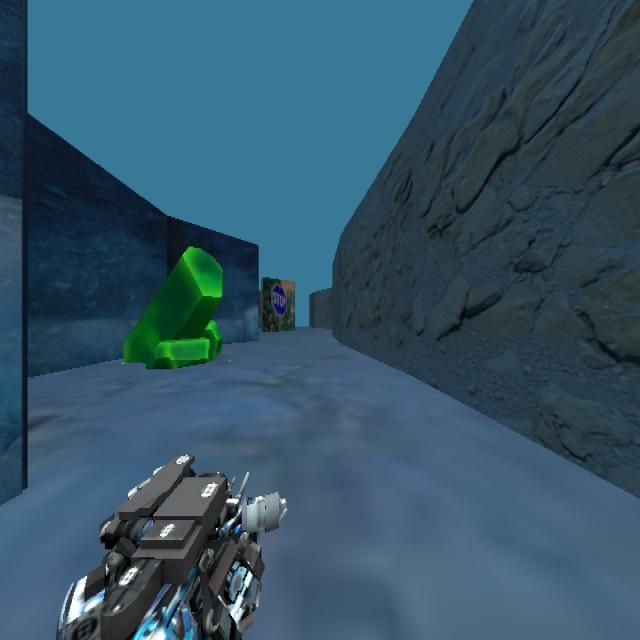Diamon: (121, 244, 224, 369)
Stop_Sign: (270, 283, 287, 316)
